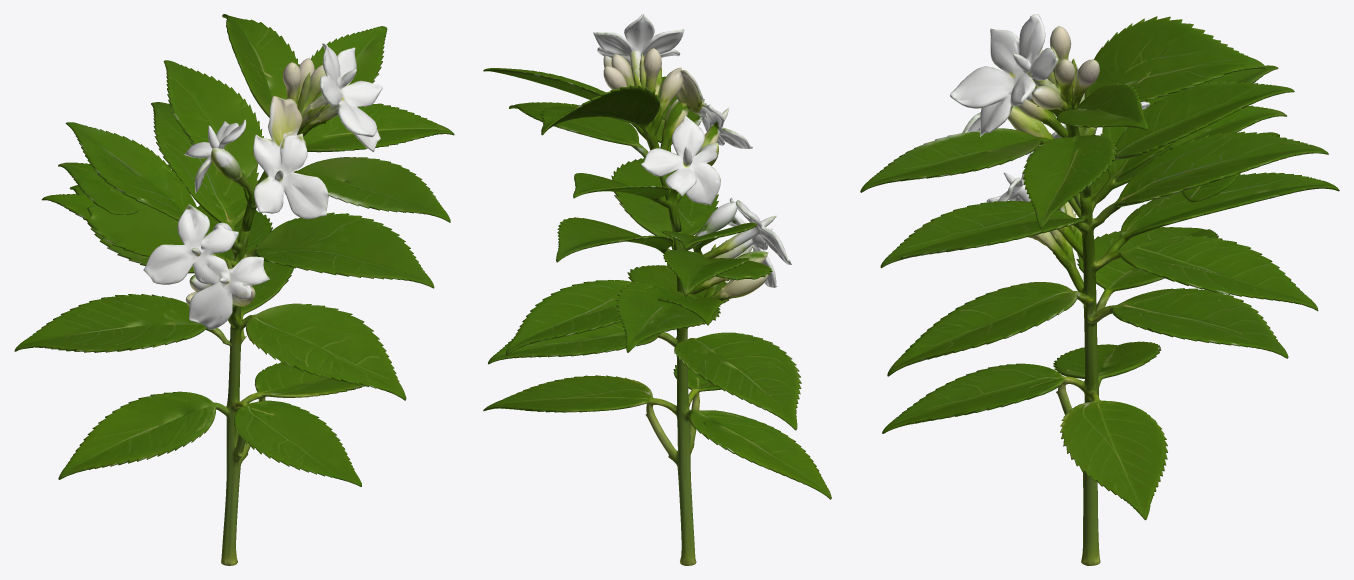
Rendered from suxinhua.glb.
3 renders of one model, left to right at view 1: azimuth 30°, elevation 25°; view 2: azimuth 150°, elevation 25°; view 3: azimuth 270°, elevation 25°, orthographic. The views are drawn at different scales.
Parts seen in each view (by area): view 1: node_0; view 2: node_0; view 3: node_0.
Part boxes in pixels (x1,y1,x2,y2): node_0: (14, 14, 454, 565); node_0: (483, 14, 831, 565); node_0: (860, 14, 1339, 565).
Bounding box in the file's own units: 0.8351 × 1.14 × 0.8394.
Materials: 1 (1 with a texture image).
